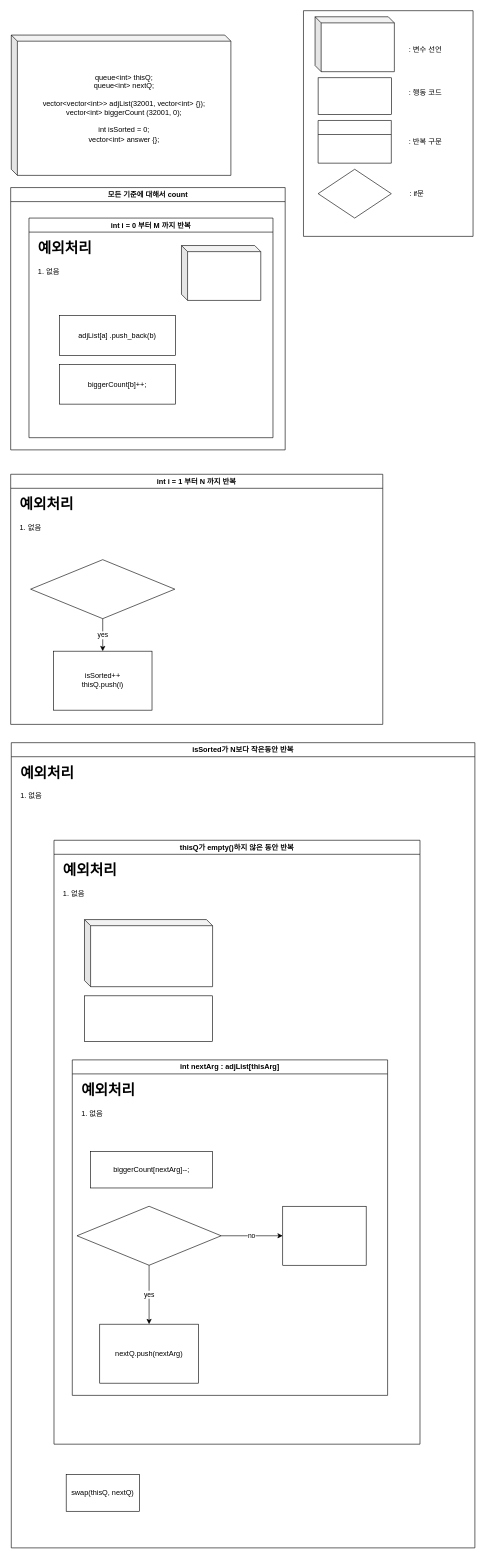
Some shapes in this 486 by 1559 pixel diagram are drawn without their labels. The centre of each missing label's shape, as x and y in pixels:
!biggerCount[nextArg]인가: the point at 148,1235
answer.push_back(thisArg): the point at 148,1018
biggerCount[i]가 0인가: the point at 102,589
int a, b: the point at 221,272
int thisArg = thisQ.front(); thisQ.pop(); isSorted++;: the point at 148,953
~ 동안: the point at 354,141
